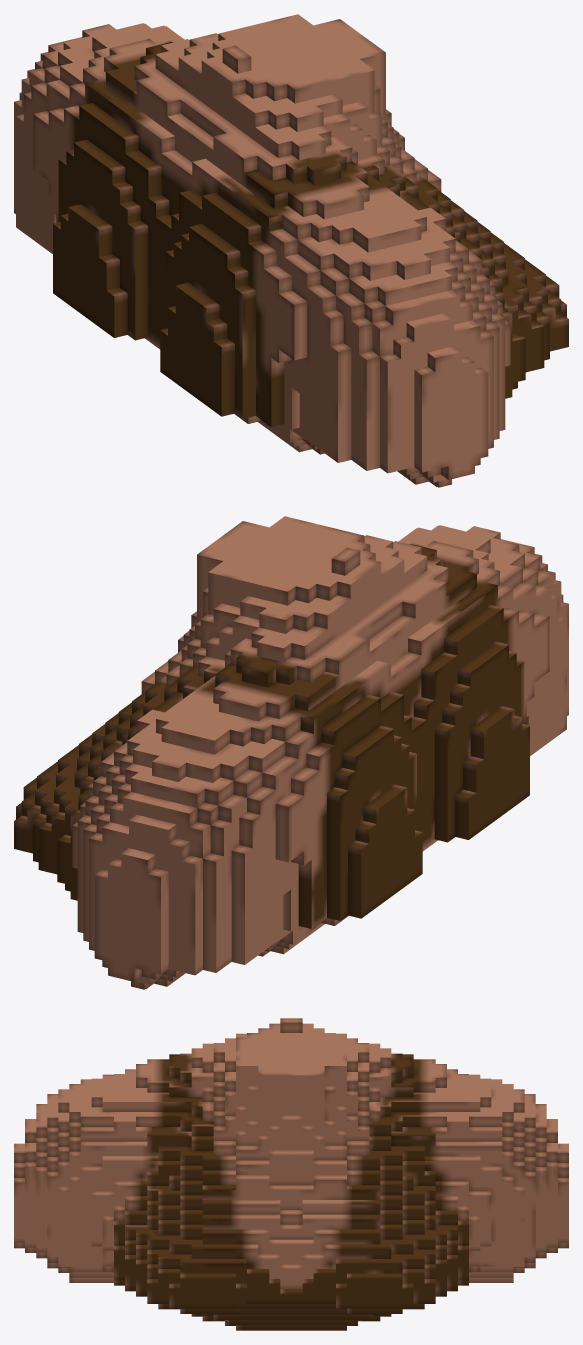
Rendered from Female_Body1.obj.
3 views of the same model, one above another, from view 1: azimuth 30°, elevation 25°; view 2: azimuth 150°, elevation 25°; view 3: azimuth 270°, elevation 25° (orthographic). The views are drawn at different scales.
Parts seen in each view (by area): view 1: Female_Body1; view 2: Female_Body1; view 3: Female_Body1.
Boxes of the visible parts, x1=… form: Female_Body1: x1=14, y1=14, x2=568, y2=487; Female_Body1: x1=14, y1=516, x2=568, y2=989; Female_Body1: x1=14, y1=1018, x2=568, y2=1330.
Bounding box in the file's own units: 26 × 25 × 50.
